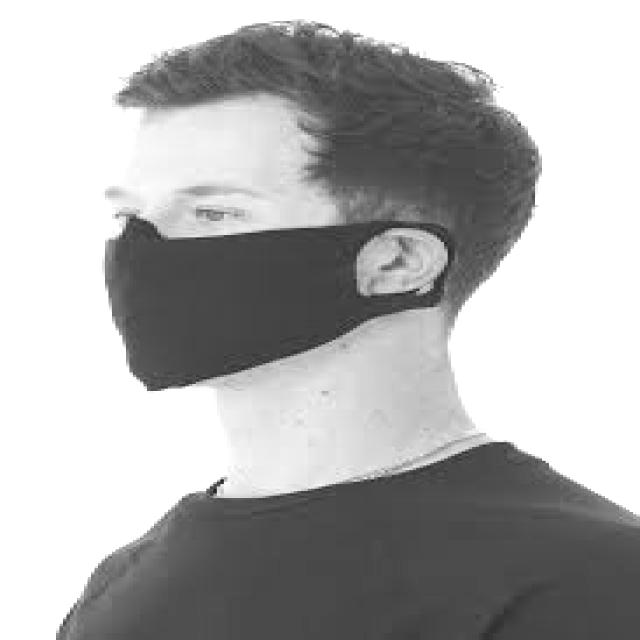fake: (57, 219, 462, 400)
real: (98, 98, 343, 413)
